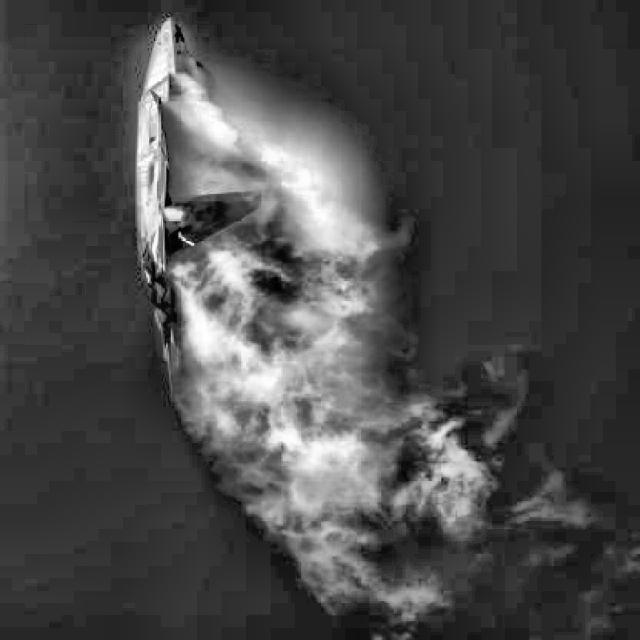F22: (135, 18, 262, 404)
